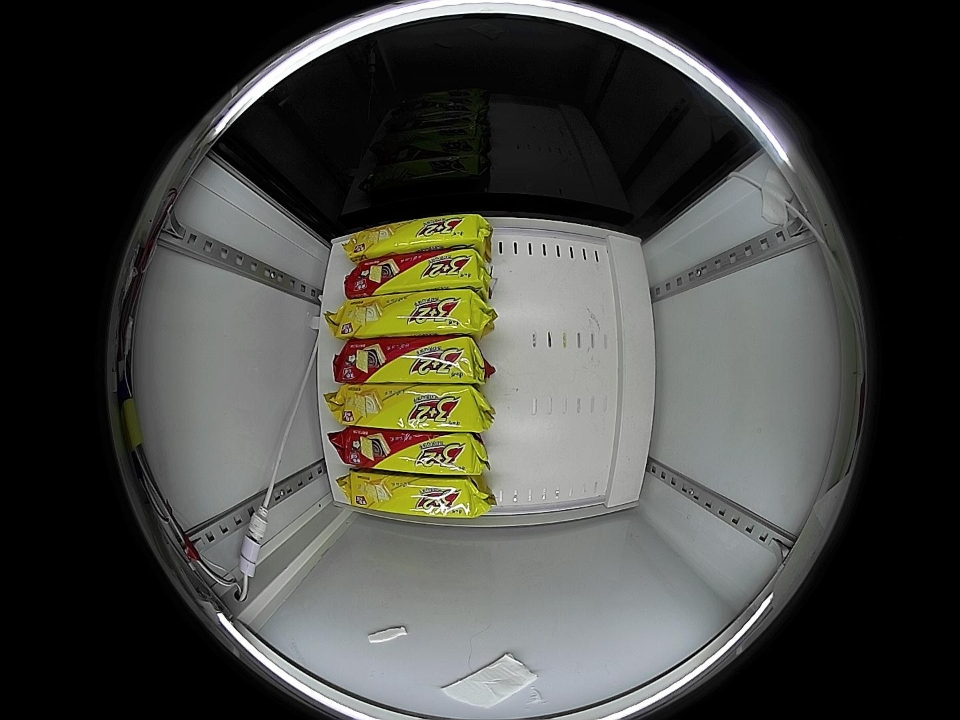3+2-2: (336, 385, 488, 432), (336, 291, 482, 338), (345, 473, 488, 520), (345, 214, 490, 260)
3jia2: (337, 338, 485, 384), (343, 250, 486, 296), (338, 430, 485, 474)
